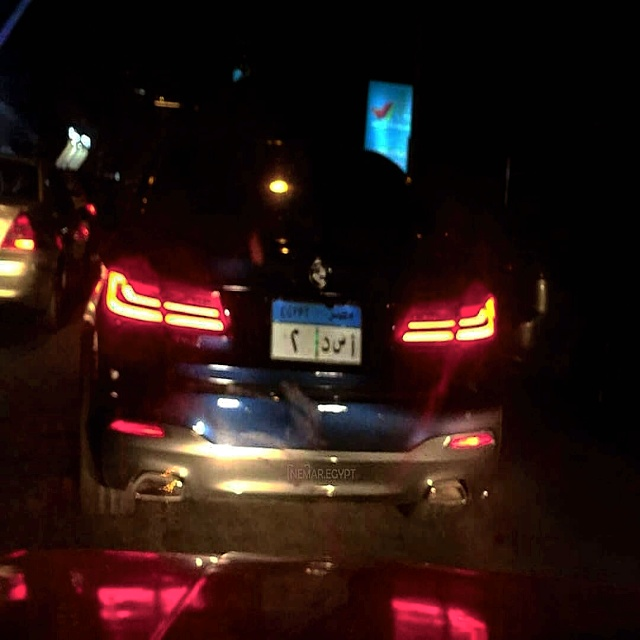License Plate: (264, 293, 366, 370)
